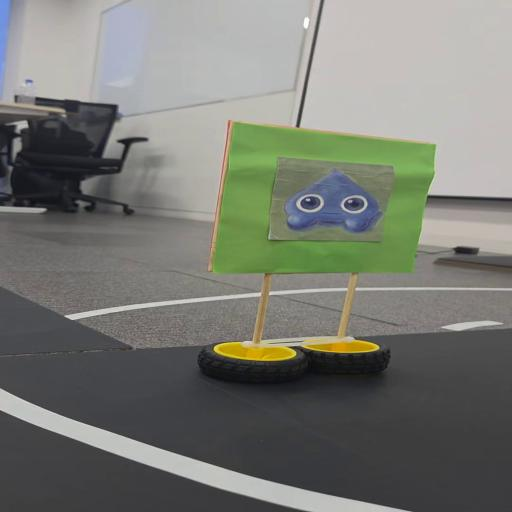Sign_B: (215, 118, 438, 385)
